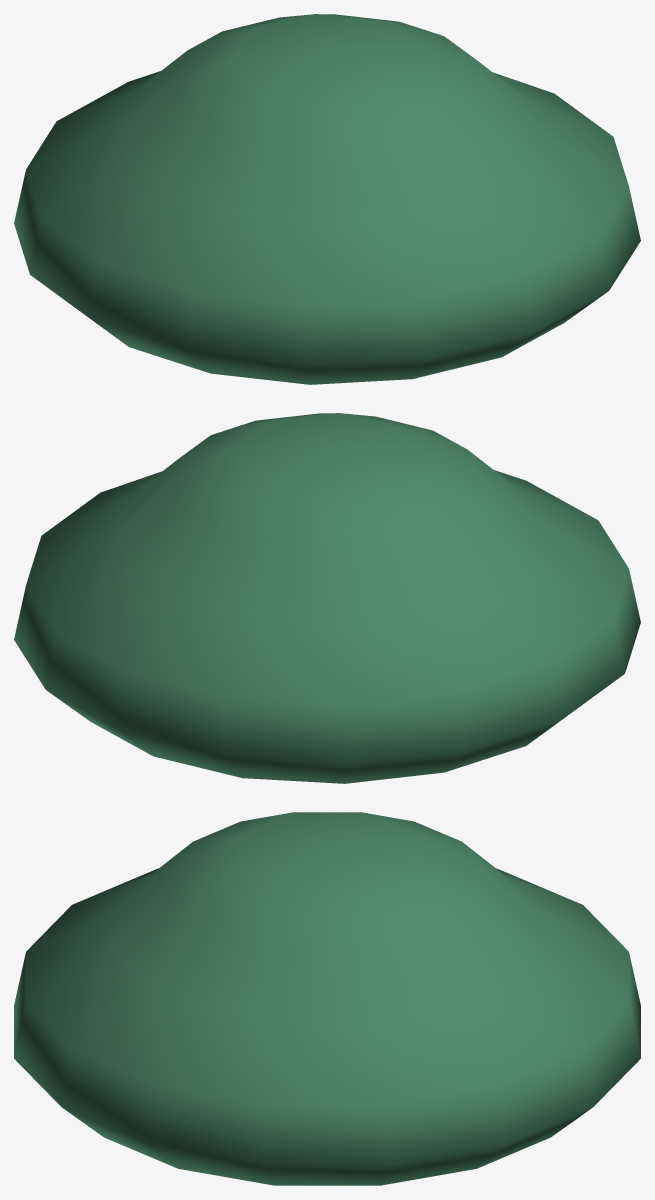
Rendered from bush-a.glb.
3 views of the same model, one above another, from view 1: azimuth 30°, elevation 25°; view 2: azimuth 150°, elevation 25°; view 3: azimuth 270°, elevation 25° (orthographic).
Parts seen in each view (by area): view 1: bush-a Bush_3_A_Color1; view 2: bush-a Bush_3_A_Color1; view 3: bush-a Bush_3_A_Color1.
Boxes of the visible parts, x1,y1,x2,y2 form: bush-a Bush_3_A_Color1: (14, 14, 640, 384); bush-a Bush_3_A_Color1: (14, 413, 640, 783); bush-a Bush_3_A_Color1: (14, 812, 640, 1185).
Size of the model in its own units: 1.03 by 0.4853 by 1.03.
